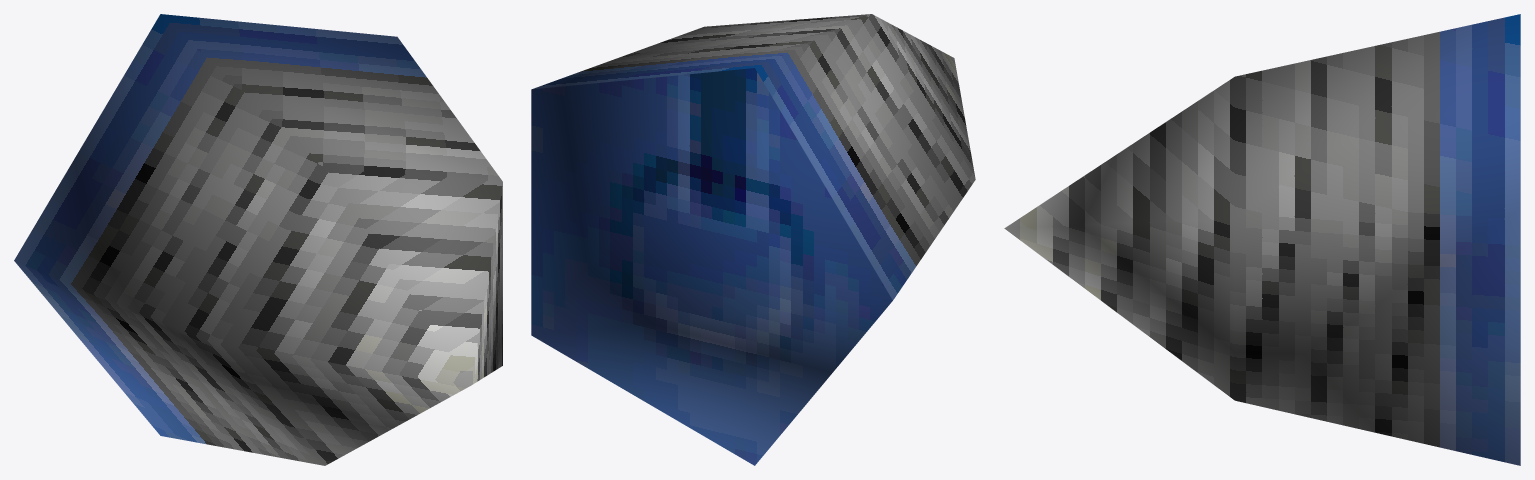
3 views of the same model, side by side, from view 1: azimuth 30°, elevation 25°; view 2: azimuth 150°, elevation 25°; view 3: azimuth 270°, elevation 25° (orthographic). The views are drawn at different scales.
Visible parts, largest first — view 1: 06404930; view 2: 06404930; view 3: 06404930.
Part boxes in pixels (left/top/right/bottom): 06404930: left=14, top=14, right=502, bottom=465; 06404930: left=531, top=14, right=975, bottom=465; 06404930: left=1004, top=14, right=1520, bottom=465.
Size of the model in its own units: 7.71 by 8.1 by 9.09.
Materials: 2 (2 with a texture image).
